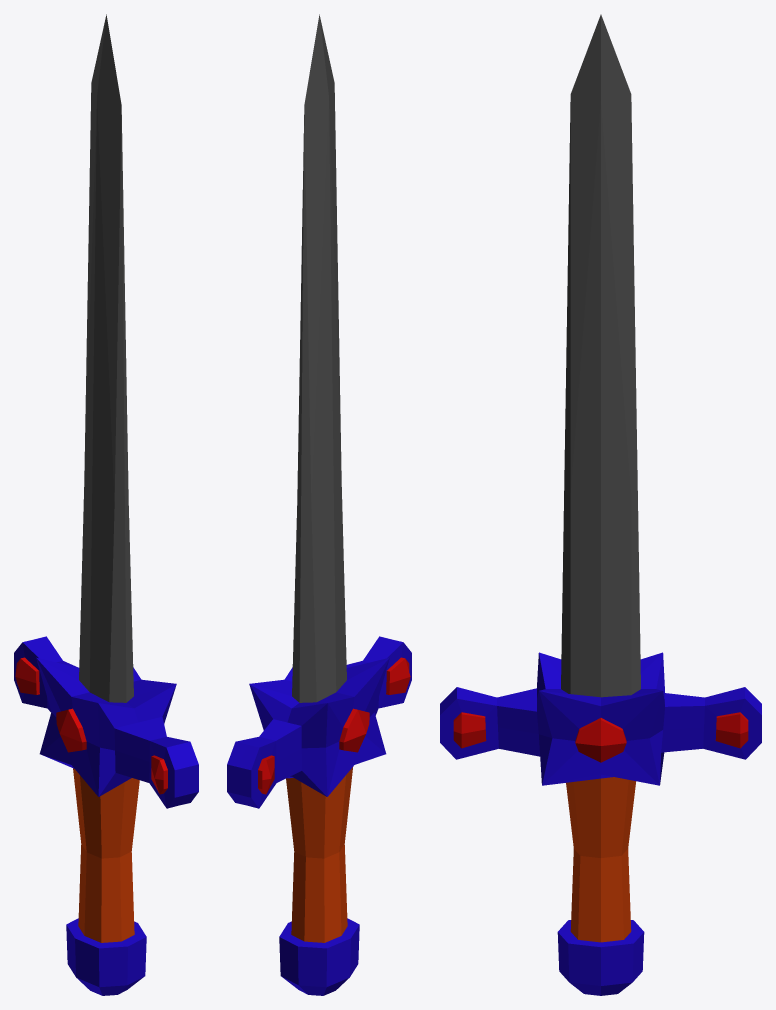
The model's file is sword.fbx.
3 views of the same model, side by side, from view 1: azimuth 30°, elevation 25°; view 2: azimuth 150°, elevation 25°; view 3: azimuth 270°, elevation 25° (orthographic).
Visible parts, largest first — view 1: Cube; view 2: Cube; view 3: Cube.
Part boxes in pixels (<box>): Cube: <box>14,14,198,995</box>; Cube: <box>227,14,411,995</box>; Cube: <box>440,14,761,995</box>.
Bounding box in the file's own units: 6.14 × 60.89 × 18.23.
